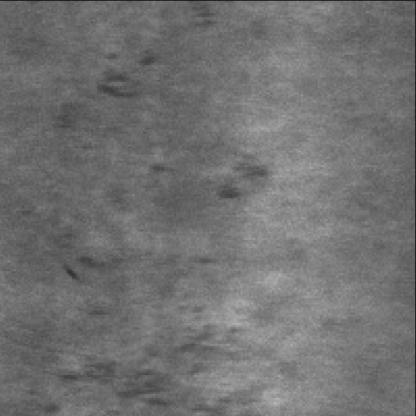rolled-in_scale: (48, 312, 243, 412), (66, 235, 218, 308), (143, 133, 280, 202), (100, 42, 164, 100)
